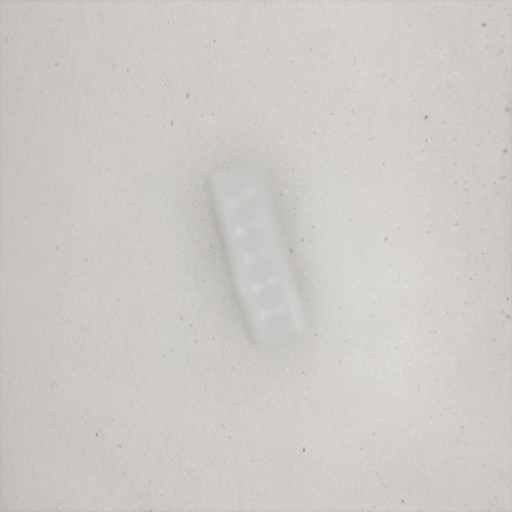lego: (204, 163, 310, 349)
